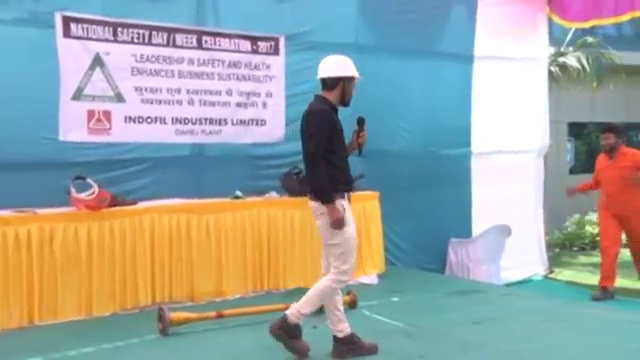helmet: (315, 53, 361, 83)
helmet_off: (598, 123, 622, 155)
helmet_on: (313, 52, 361, 107)
person: (271, 51, 379, 360), (566, 121, 640, 303)
